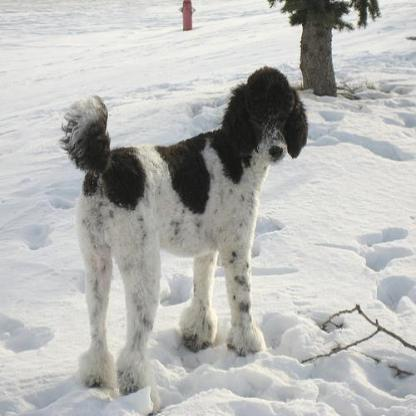standard_poodle: (57, 64, 307, 392)
